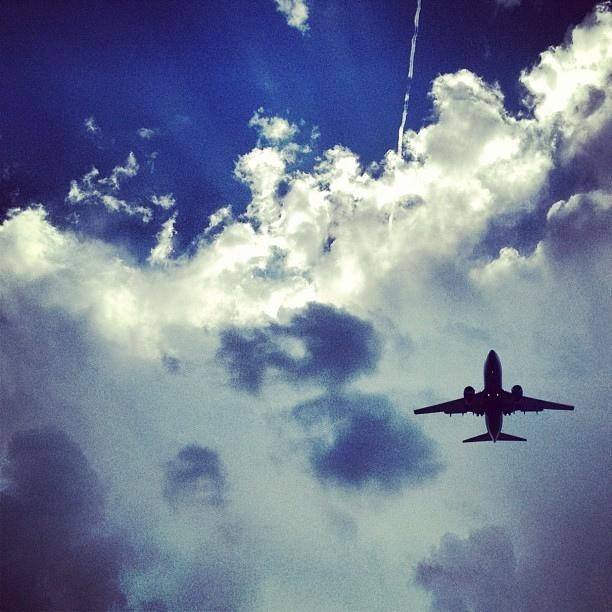airplane: (405, 347, 573, 451)
